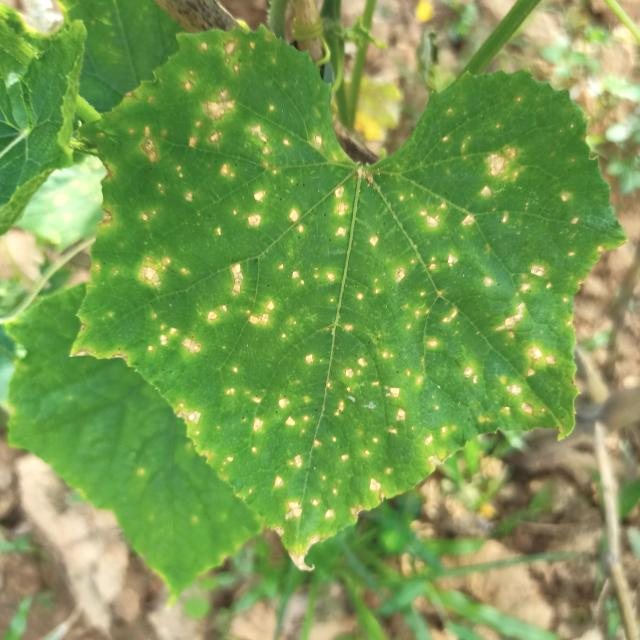disease_cucumber: (132, 250, 549, 522), (100, 36, 346, 332), (330, 120, 606, 370)
